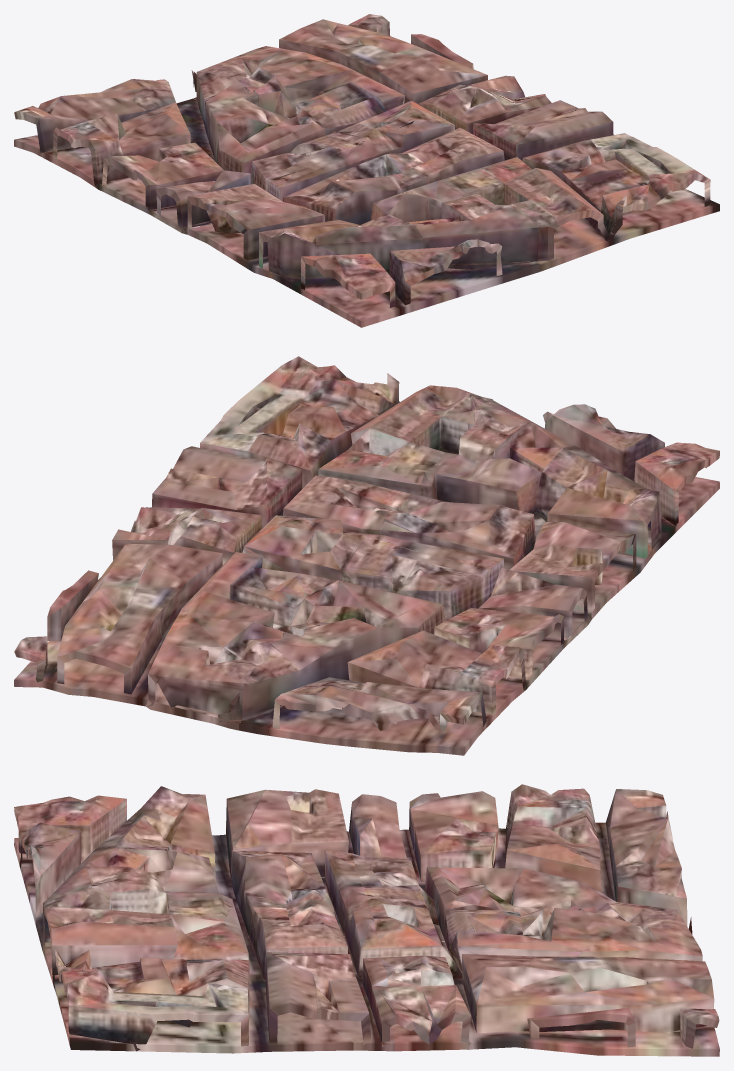
The picture shows the model from 3 angles, top to bottom: view 1: azimuth 30°, elevation 25°; view 2: azimuth 150°, elevation 25°; view 3: azimuth 270°, elevation 25°; orthographic projection. The views are drawn at different scales.
Parts seen in each view (by area): view 1: Mesh_0; view 2: Mesh_0; view 3: Mesh_0.
Part boxes in pixels (left/top/right/bottom): Mesh_0: left=14, top=14, right=719, bottom=327; Mesh_0: left=14, top=356, right=719, bottom=755; Mesh_0: left=14, top=784, right=719, bottom=1056.
Bounding box in the file's own units: 266 × 49.69 × 330.
2 materials, 2 textured.
